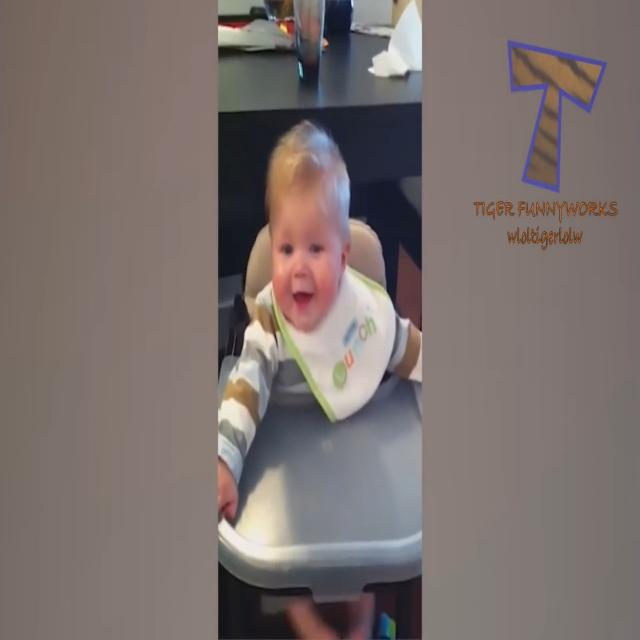safe: (244, 108, 381, 430)
